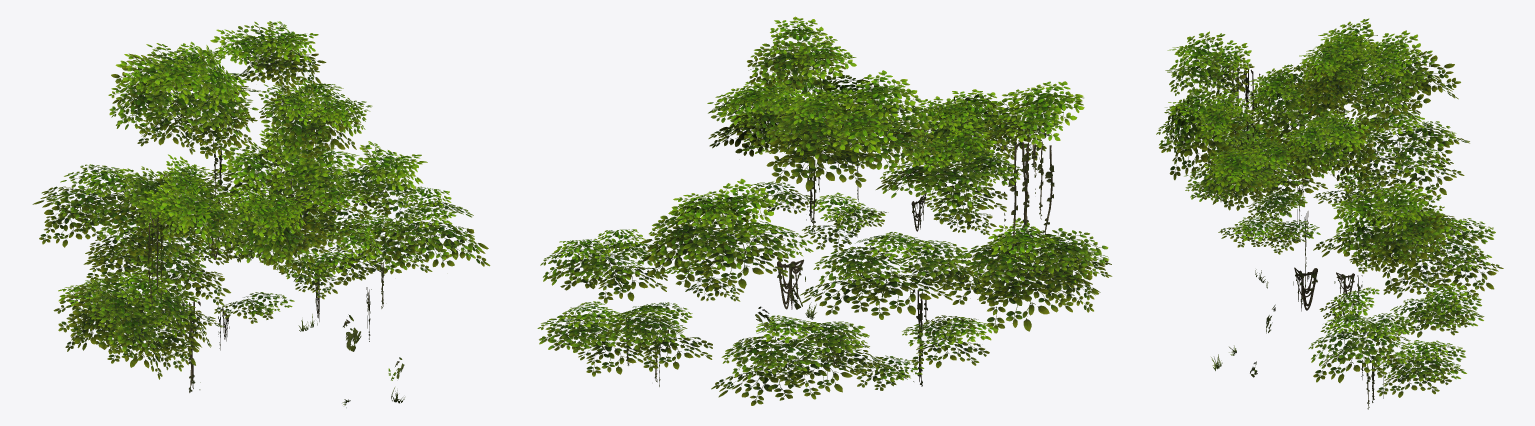
File: zz_shuye_2.FBX
The picture shows the model from 3 angles, left to right: view 1: azimuth 30°, elevation 25°; view 2: azimuth 150°, elevation 25°; view 3: azimuth 270°, elevation 25°; orthographic projection. The views are drawn at different scales.
Visible parts, largest first — view 1: zz_shuye_2; view 2: zz_shuye_2; view 3: zz_shuye_2.
Boxes of the visible parts, x1,y1,x2,y2 form: zz_shuye_2: (32, 21, 490, 407); zz_shuye_2: (537, 16, 1112, 405); zz_shuye_2: (1156, 18, 1503, 409).
Size of the model in its own units: 2906 by 2028 by 2199.
